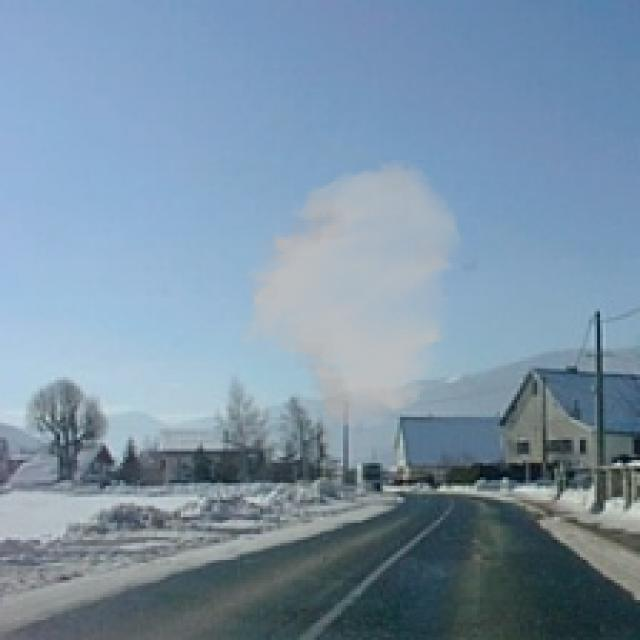smoke: (237, 157, 463, 432)
